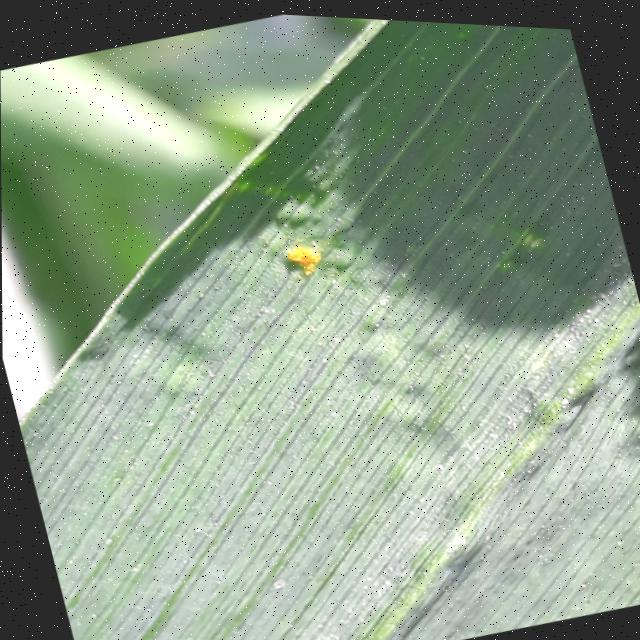orang_rust: (183, 151, 431, 390)
